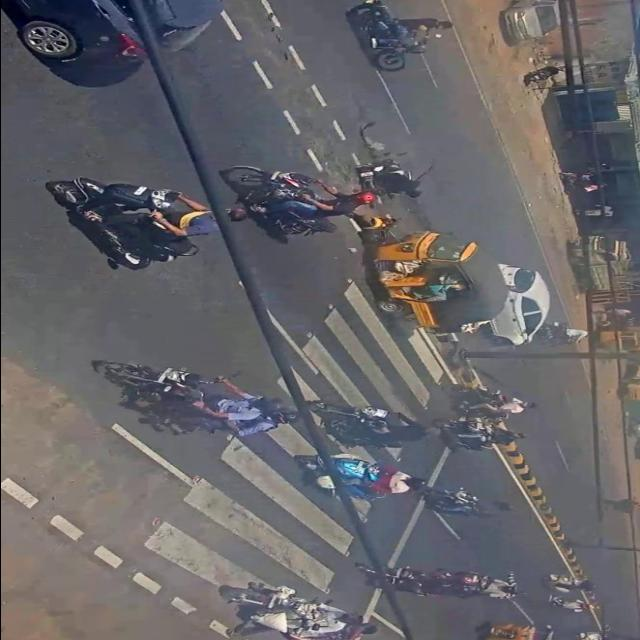accident: (348, 118, 435, 202)
